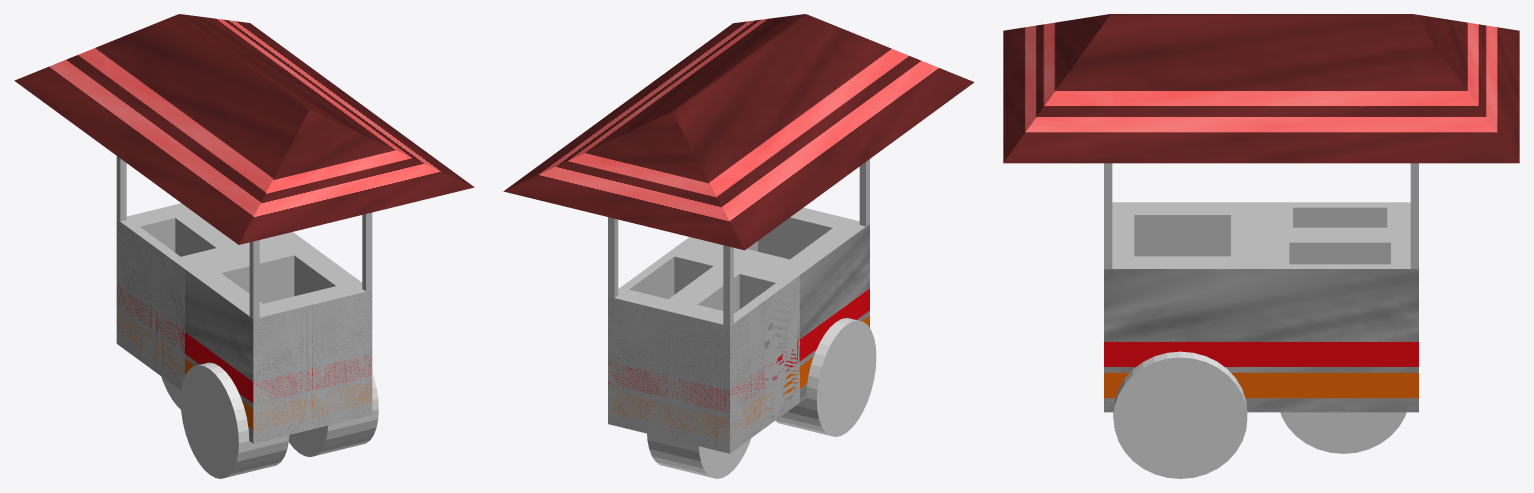
Rendered from osasco.fbx.
3 views of the same model, side by side, from view 1: azimuth 30°, elevation 25°; view 2: azimuth 150°, elevation 25°; view 3: azimuth 270°, elevation 25° (orthographic). The views are drawn at different scales.
Parts seen in each view (by area): view 1: Cube.005, Cube, Cylinder.001, Cylinder, Cube.004, Cube.003, Cube.002; view 2: Cube.005, Cube, Cylinder.001, Cylinder.002, Cube.002, Cube.001, Cube.003; view 3: Cube.005, Cube, Cylinder, Cylinder.002, Cube.001, Cube.004.
Boxes of the visible parts, left/top/right/bottom form: Cube.005: left=14, top=14, right=474, bottom=244; Cube: left=116, top=203, right=372, bottom=443; Cylinder.001: left=180, top=362, right=289, bottom=478; Cylinder: left=289, top=372, right=378, bottom=456; Cube.004: left=362, top=212, right=372, bottom=291; Cube.003: left=249, top=240, right=259, bottom=318; Cube.002: left=116, top=156, right=126, bottom=221; Cube.005: left=503, top=14, right=974, bottom=250; Cube: left=608, top=207, right=869, bottom=453; Cylinder.001: left=775, top=318, right=876, bottom=436; Cylinder.002: left=647, top=433, right=750, bottom=478; Cube.002: left=723, top=245, right=733, bottom=326; Cube.001: left=608, top=217, right=618, bottom=297; Cube.003: left=859, top=159, right=869, bottom=226; Cube.005: left=1003, top=14, right=1519, bottom=163; Cube: left=1104, top=202, right=1418, bottom=412; Cylinder: left=1113, top=351, right=1247, bottom=478; Cylinder.002: left=1280, top=412, right=1406, bottom=453; Cube.001: left=1410, top=163, right=1418, bottom=268; Cube.004: left=1104, top=163, right=1112, bottom=268.
Size of the model in its own units: 397 by 593 by 653.
